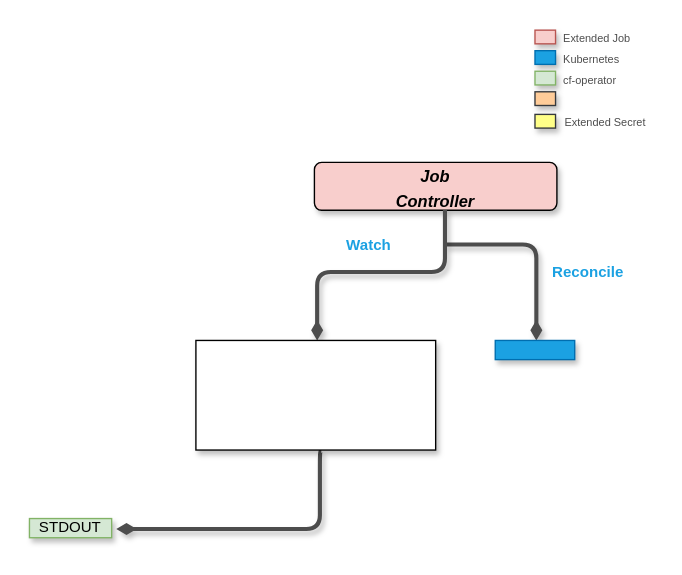
The diagram is 682 pixels wide and 575 high, and some of its shapes have lost their labels. The centre of each missing label's shape, as x and y in pixels:
Reference + Jobs (Succeeded/Failed) CRD + ExtendedJob: point (316, 397)
Secrets: point (535, 351)
